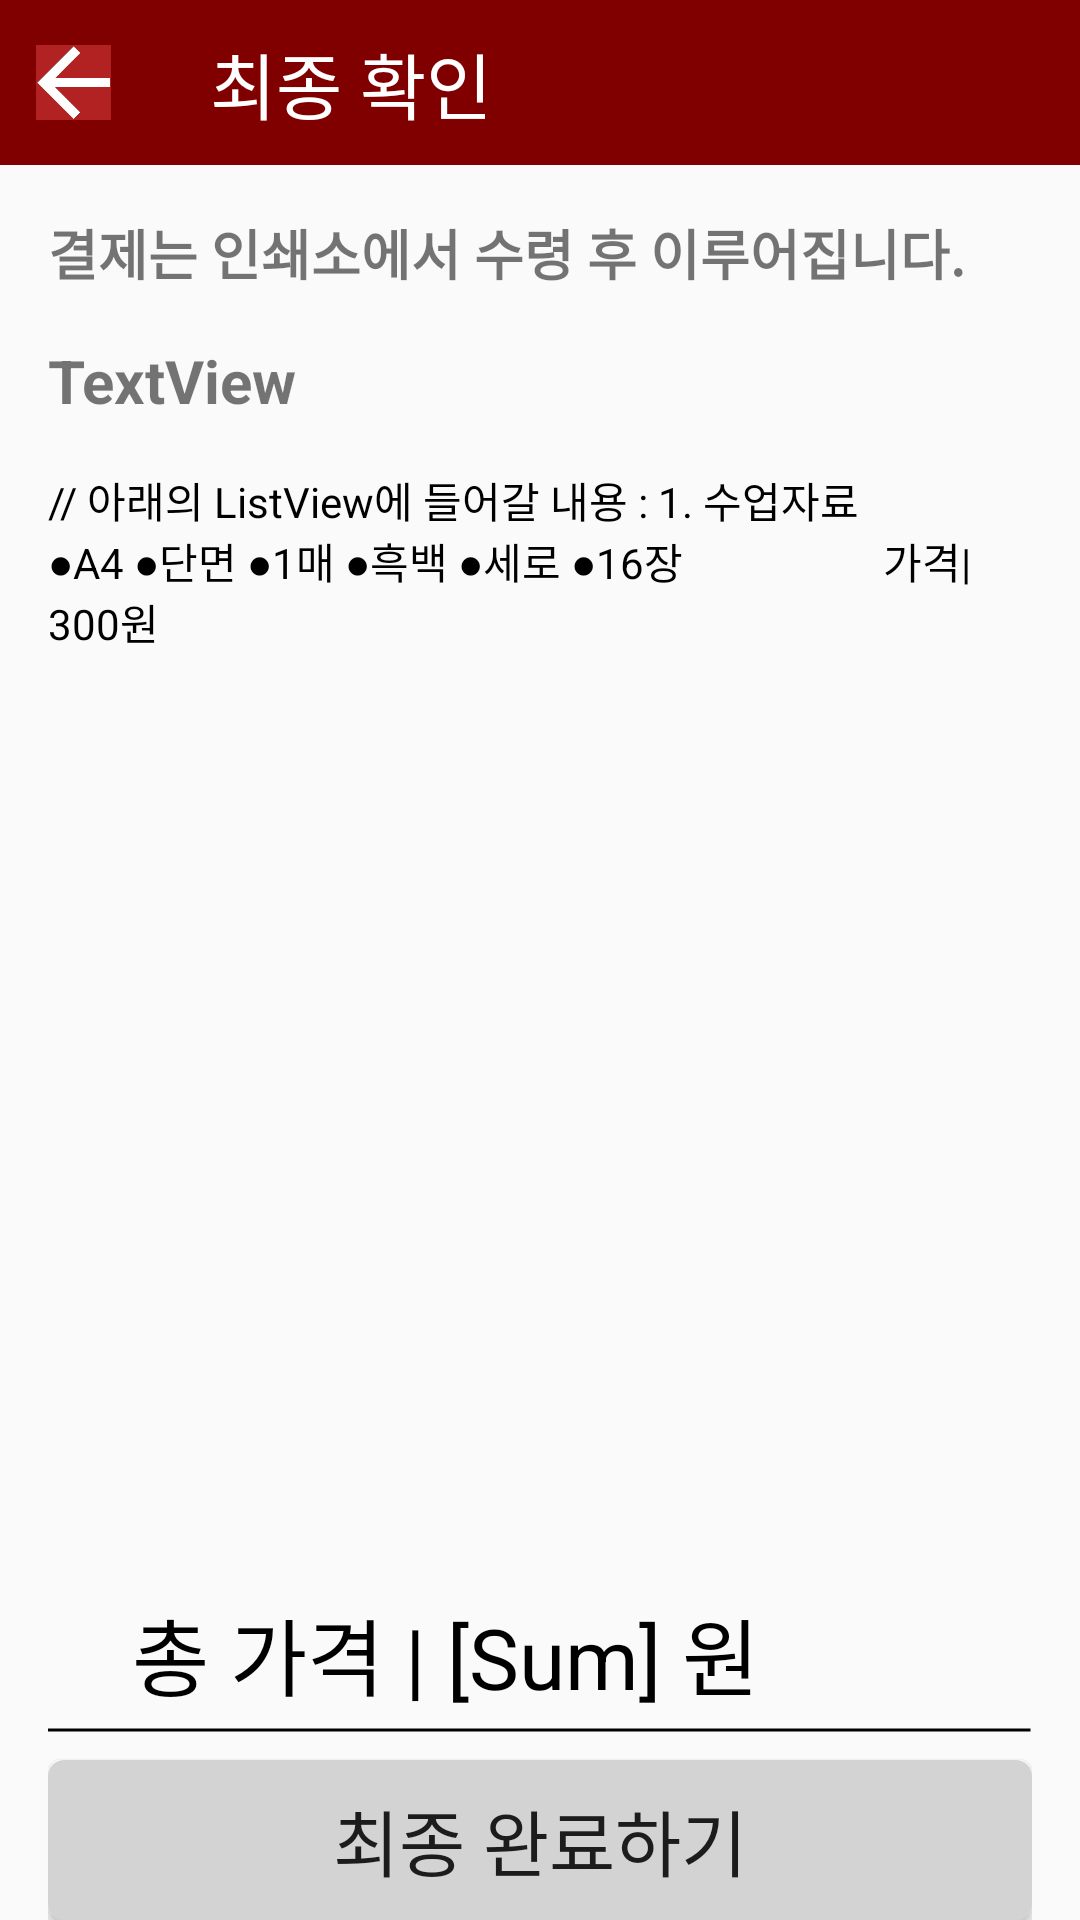

Locate icon controls on the screen. Image size 1080x1920, boxes as (x1, y1, x2, y2).
left: (36, 45, 111, 120)
